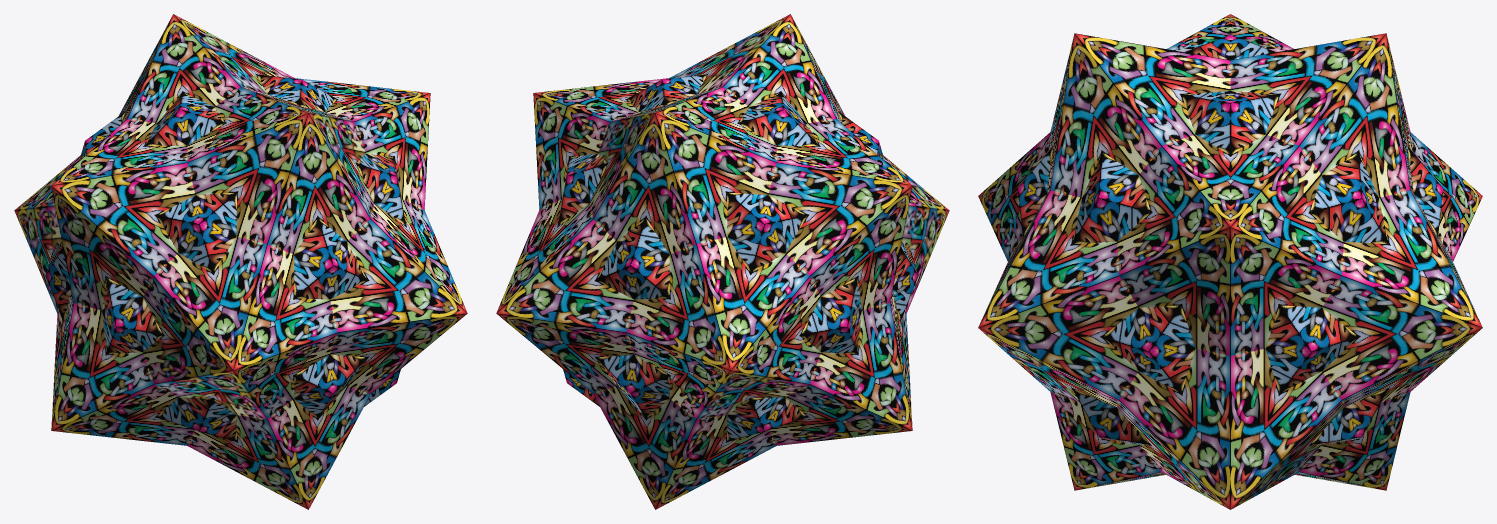
Rendered from 33GreatDitrigonalDodecacronicHexecontahedron.obj.
3 renders of one model, left to right at view 1: azimuth 30°, elevation 25°; view 2: azimuth 150°, elevation 25°; view 3: azimuth 270°, elevation 25°, orthographic. The views are drawn at different scales.
Bounding box in the file's own units: 2.35 × 2.35 × 2.35.
1 material, 1 textured.
